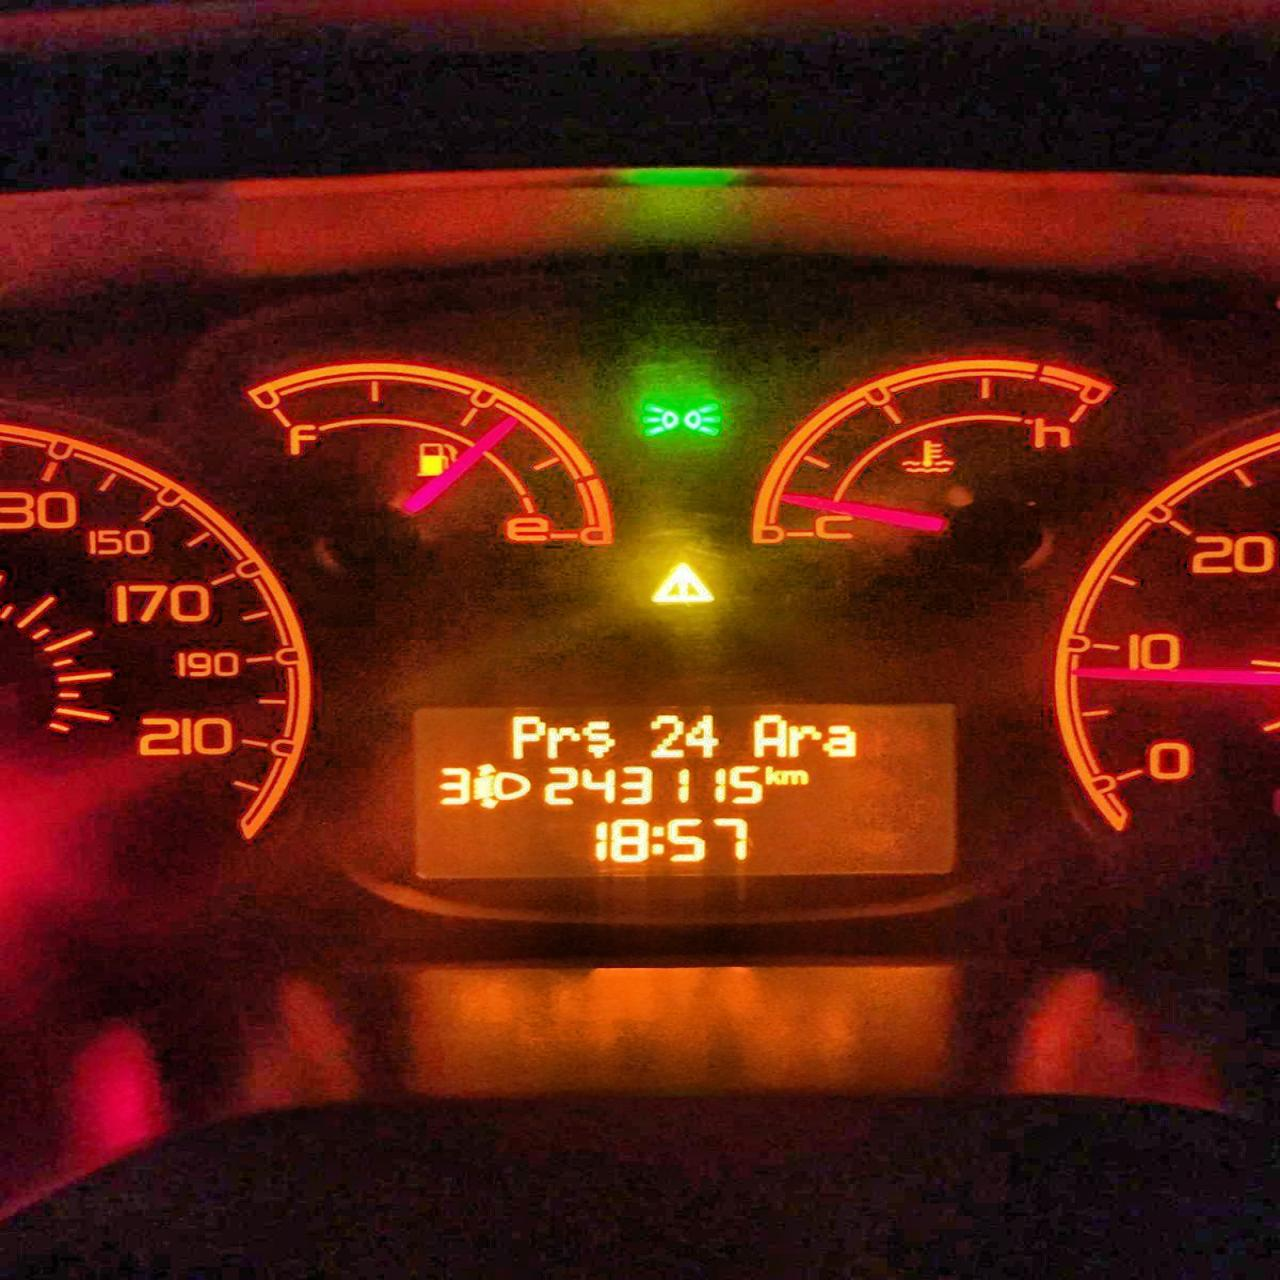1: (674, 765, 695, 806), (591, 817, 607, 864), (712, 765, 727, 805)
2: (648, 712, 685, 758), (542, 765, 577, 808)
3: (620, 763, 654, 805), (437, 763, 470, 806)
4: (686, 710, 722, 761), (580, 765, 617, 803)
5: (666, 816, 707, 863), (729, 763, 761, 805)
7: (712, 815, 748, 862)
8: (608, 816, 646, 866)
X: (508, 710, 544, 758), (583, 716, 621, 760), (751, 714, 787, 758), (822, 722, 858, 758), (546, 724, 580, 760), (787, 721, 818, 757), (648, 821, 665, 859), (779, 767, 810, 785), (763, 763, 778, 788)
odometer: (410, 689, 975, 887)
